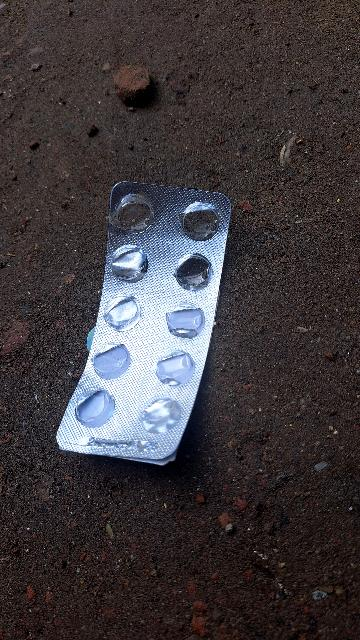medicine: (40, 164, 237, 468)
